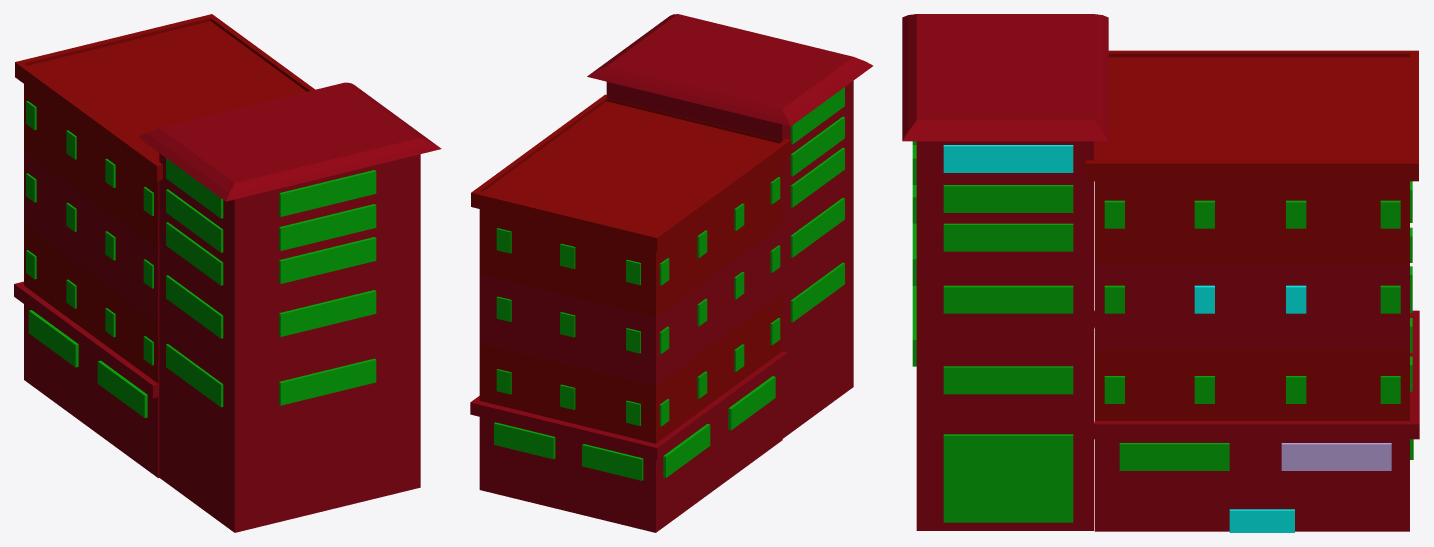
The model's file is Predio3.fbx.
The picture shows the model from 3 angles, left to right: view 1: azimuth 30°, elevation 25°; view 2: azimuth 150°, elevation 25°; view 3: azimuth 270°, elevation 25°; orthographic projection. The views are drawn at different scales.
Parts seen in each view (by area): view 1: Cube.063, Cube.045, Cube.066, Cube.064, Cube.065, Cube, Cube.046, Cube.047, Cube.052, Cube.053, Cube.057, Cube.017 (+8 smaller); view 2: Cube.045, Cube.063, Cube, Cube.046, Cube.047, Cube.066, Cube.064, Cube.065, Cube.055, Cube.054, Cube.059, Cube.058 (+5 smaller); view 3: Cube.045, Cube.063, Cube, Cube.046, Cube.047, Cube.064, Cube.015, Cube.065, Cube.066, Cube.009, Cube.010, Cube.014 (+13 smaller).
Part boxes in pixels (left/top/right/bottom): Cube.063: left=138, top=82, right=441, bottom=304; Cube.045: left=15, top=14, right=314, bottom=249; Cube.066: left=159, top=384, right=420, bottom=532; Cube.064: left=159, top=250, right=420, bottom=378; Cube.065: left=159, top=323, right=420, bottom=439; Cube: left=14, top=281, right=159, bottom=478; Cube.046: left=24, top=152, right=159, bottom=322; Cube.047: left=24, top=225, right=159, bottom=383; Cube.052: left=279, top=170, right=376, bottom=216; Cube.053: left=279, top=358, right=376, bottom=405; Cube.057: left=279, top=290, right=376, bottom=336; Cube.017: left=279, top=204, right=376, bottom=250; Cube.045: left=471, top=94, right=791, bottom=317; Cube.063: left=587, top=14, right=873, bottom=223; Cube: left=470, top=351, right=788, bottom=532; Cube.046: left=479, top=225, right=782, bottom=386; Cube.047: left=479, top=294, right=782, bottom=443; Cube.066: left=782, top=299, right=853, bottom=438; Cube.064: left=782, top=172, right=853, bottom=292; Cube.065: left=782, top=241, right=853, bottom=350; Cube.055: left=582, top=444, right=643, bottom=480; Cube.054: left=494, top=422, right=555, bottom=459; Cube.059: left=790, top=116, right=844, bottom=176; Cube.058: left=790, top=148, right=844, bottom=207; Cube.045: left=1085, top=50, right=1418, bottom=263; Cube.063: left=902, top=14, right=1108, bottom=263; Cube: left=1093, top=310, right=1419, bottom=531; Cube.046: left=1094, top=263, right=1409, bottom=349; Cube.047: left=1094, top=349, right=1409, bottom=420; Cube.064: left=916, top=263, right=1093, bottom=349; Cube.015: left=943, top=434, right=1073, bottom=522; Cube.065: left=916, top=349, right=1093, bottom=421; Cube.066: left=916, top=421, right=1093, bottom=530; Cube.009: left=943, top=285, right=1073, bottom=313; Cube.010: left=943, top=366, right=1073, bottom=394; Cube.014: left=943, top=223, right=1073, bottom=251.
Size of the model in its own units: 330 by 512 by 583.
